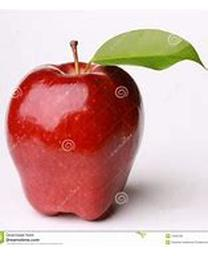apple: (4, 39, 147, 221)
